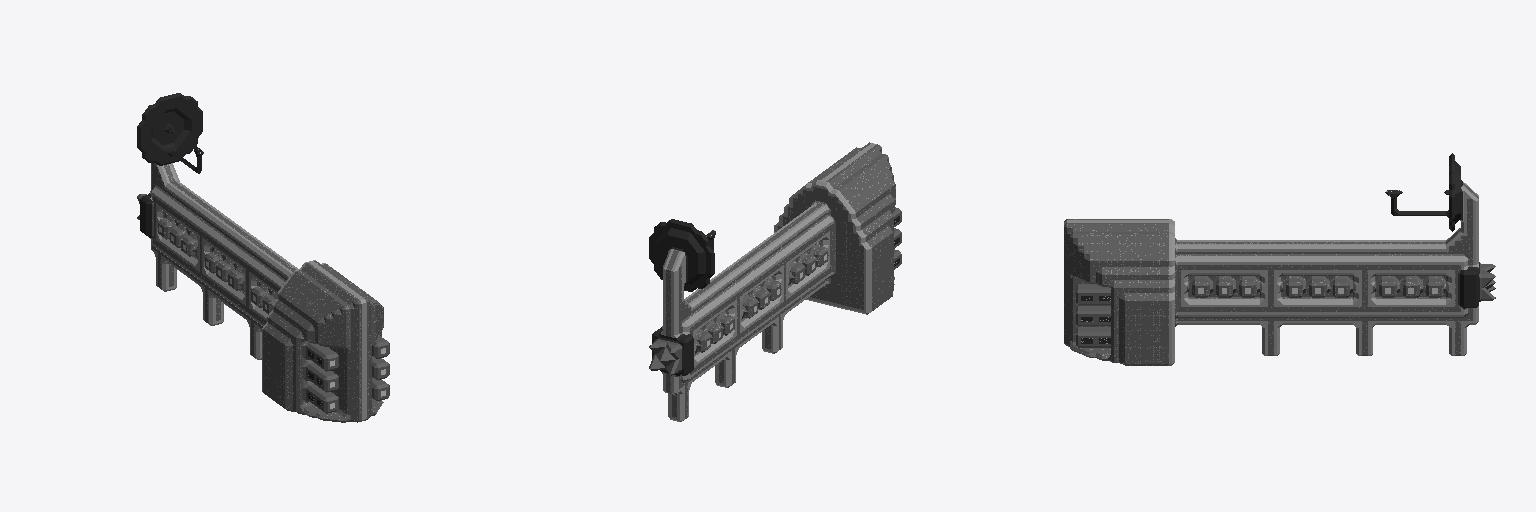
3 renders of one model, left to right at view 1: azimuth 30°, elevation 25°; view 2: azimuth 150°, elevation 25°; view 3: azimuth 270°, elevation 25°, orthographic.
Bounding box in the file's own units: 19 × 37 × 74.
Materials: 1 (1 with a texture image).